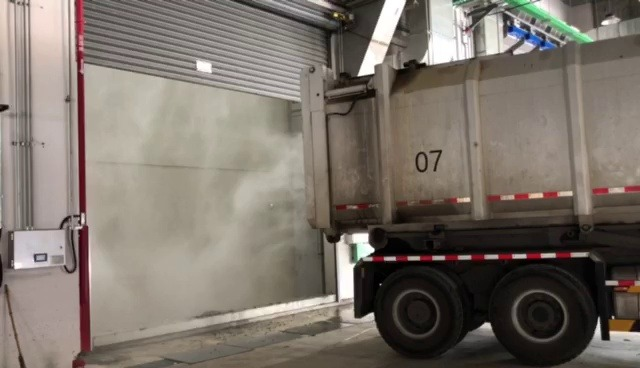dust: (87, 131, 306, 313)
truck: (294, 23, 639, 368)
